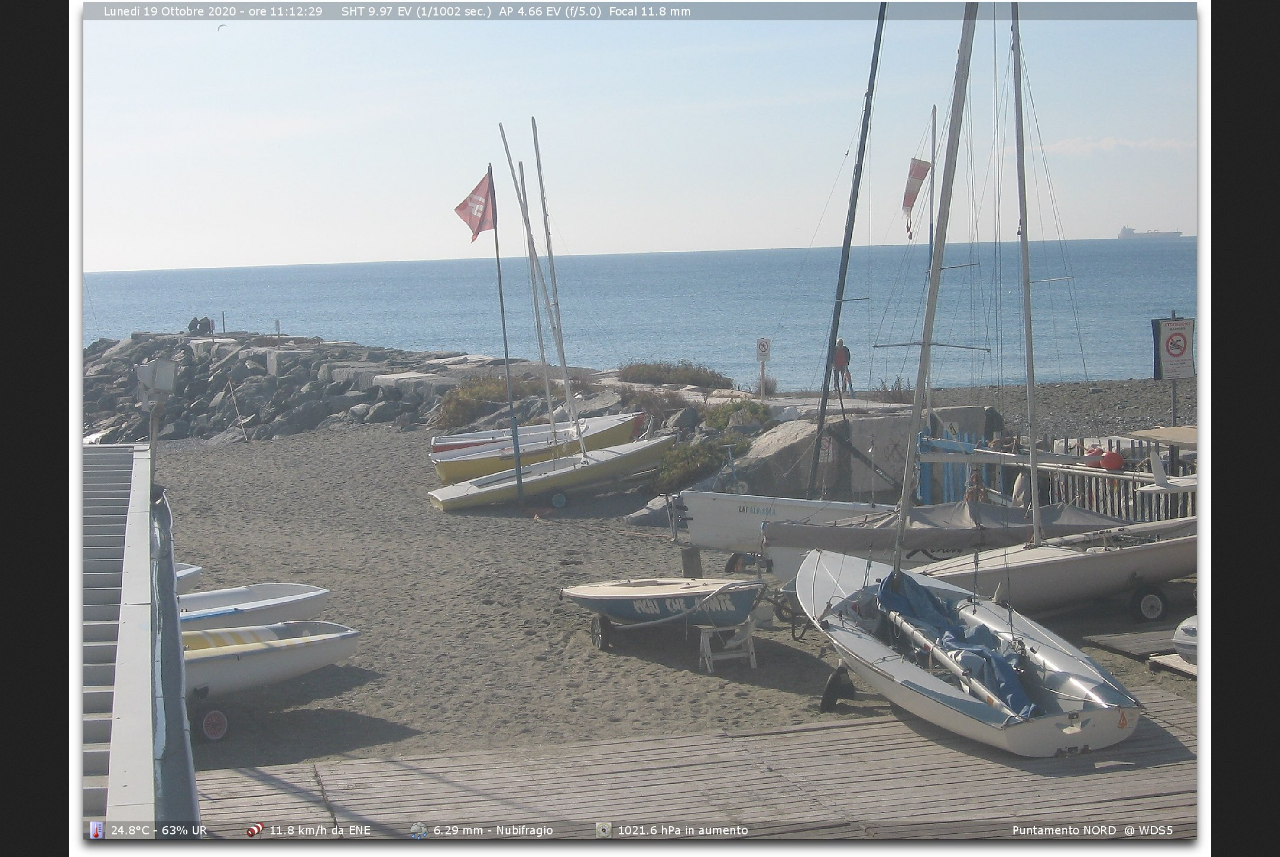maybe: (448, 165, 508, 243)
